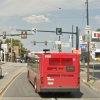Bus: (22, 47, 87, 97)
